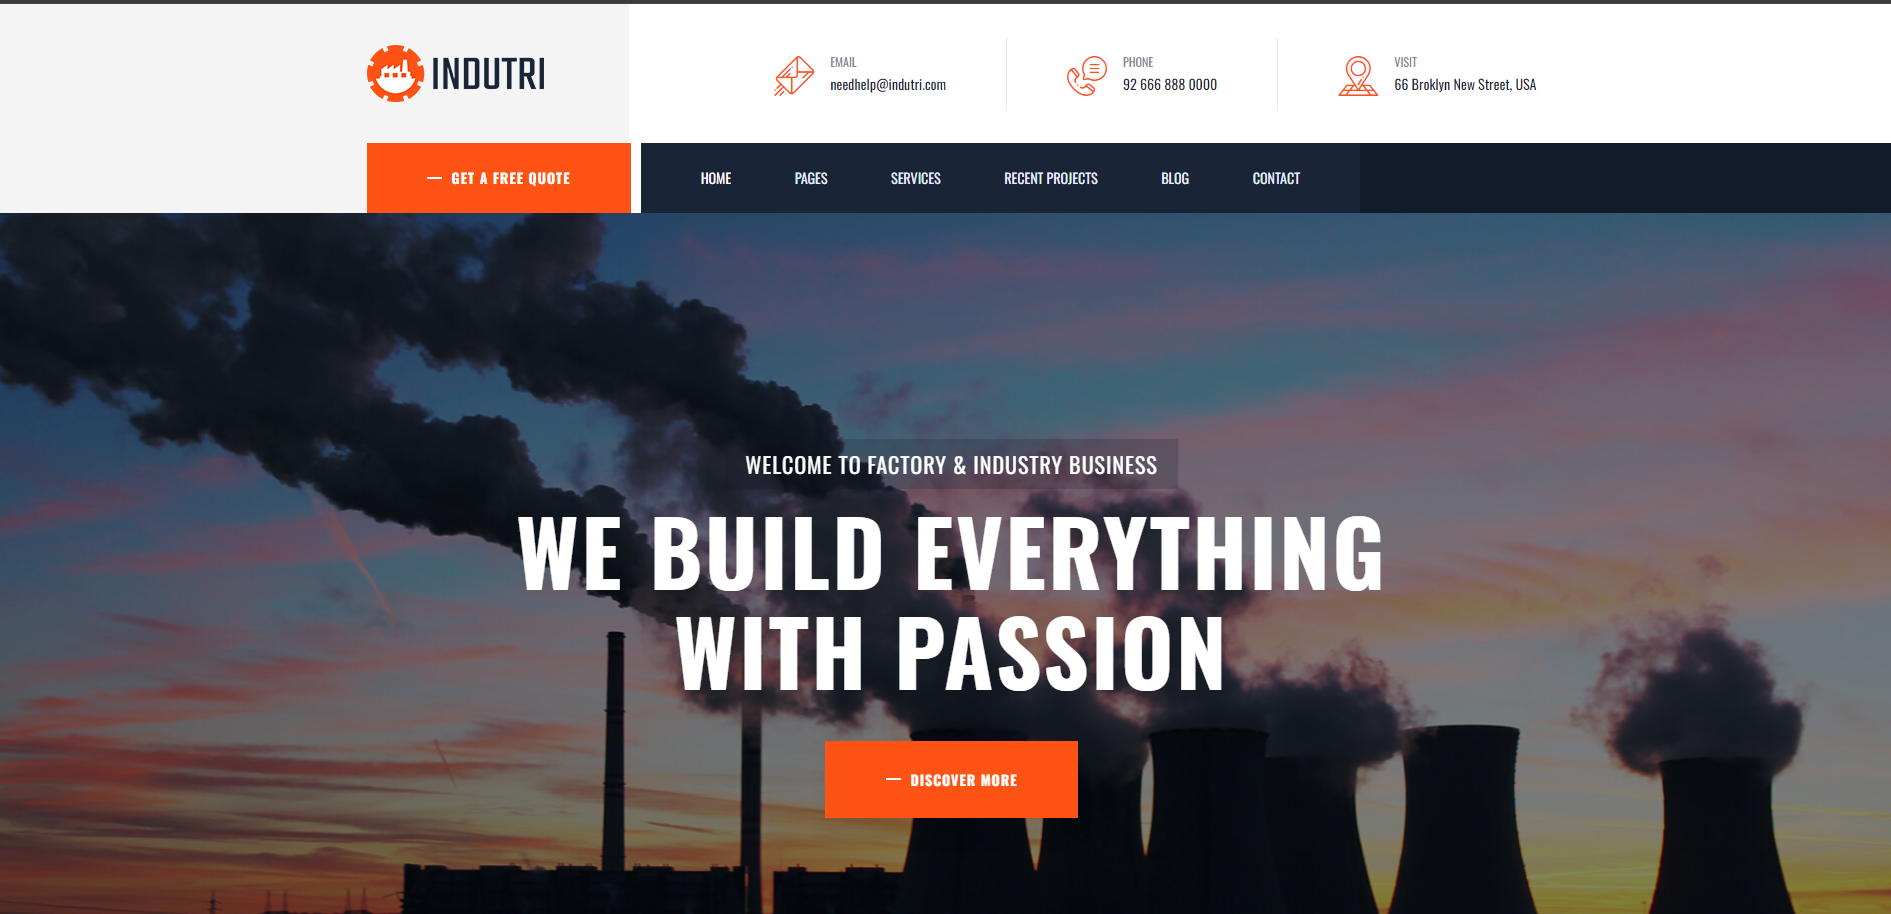menu: (48, 18, 1739, 244)
